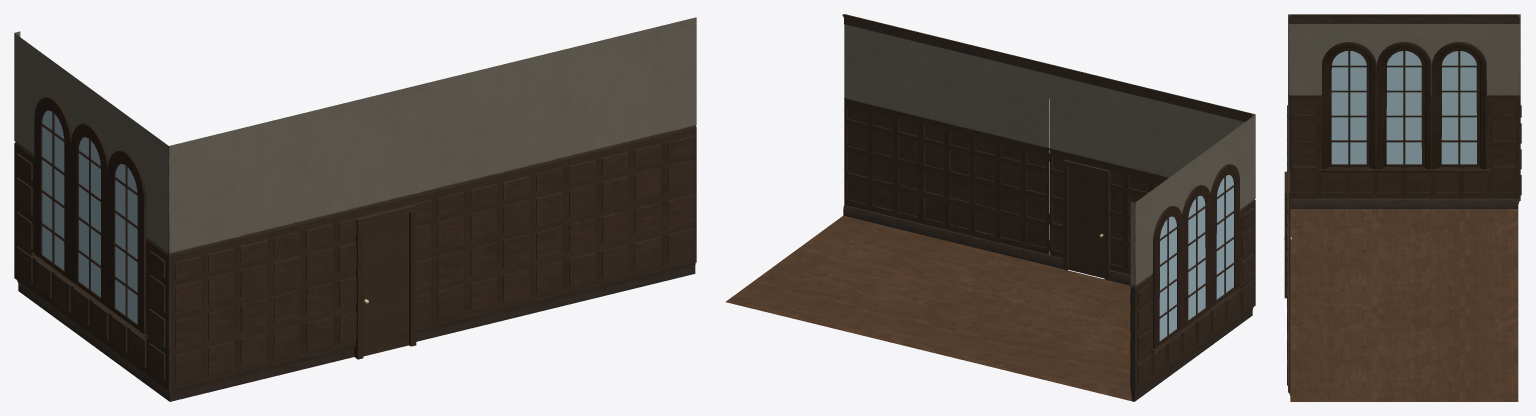
Rendered from architecture-mobile-ddc1e4897854.glb.
3 renders of one model, left to right at view 1: azimuth 30°, elevation 25°; view 2: azimuth 150°, elevation 25°; view 3: azimuth 270°, elevation 25°, orthographic. The views are drawn at different scales.
Visible parts, largest first — view 1: Door_Frame_1_Interior_0, Glass_1_Interior_0; view 2: Door_Frame_1_Interior_0, Glass_1_Interior_0; view 3: Door_Frame_1_Interior_0, Glass_1_Interior_0.
Part boxes in pixels (<box>): Door_Frame_1_Interior_0: <box>14,17,696,401</box>; Glass_1_Interior_0: <box>42,110,137,323</box>; Door_Frame_1_Interior_0: <box>725,14,1255,401</box>; Glass_1_Interior_0: <box>1159,175,1233,340</box>; Door_Frame_1_Interior_0: <box>1284,14,1521,401</box>; Glass_1_Interior_0: <box>1331,51,1476,164</box>.
Bounding box in the file's own units: 7.95 × 3.7 × 4.09.
2 materials, 1 textured.
